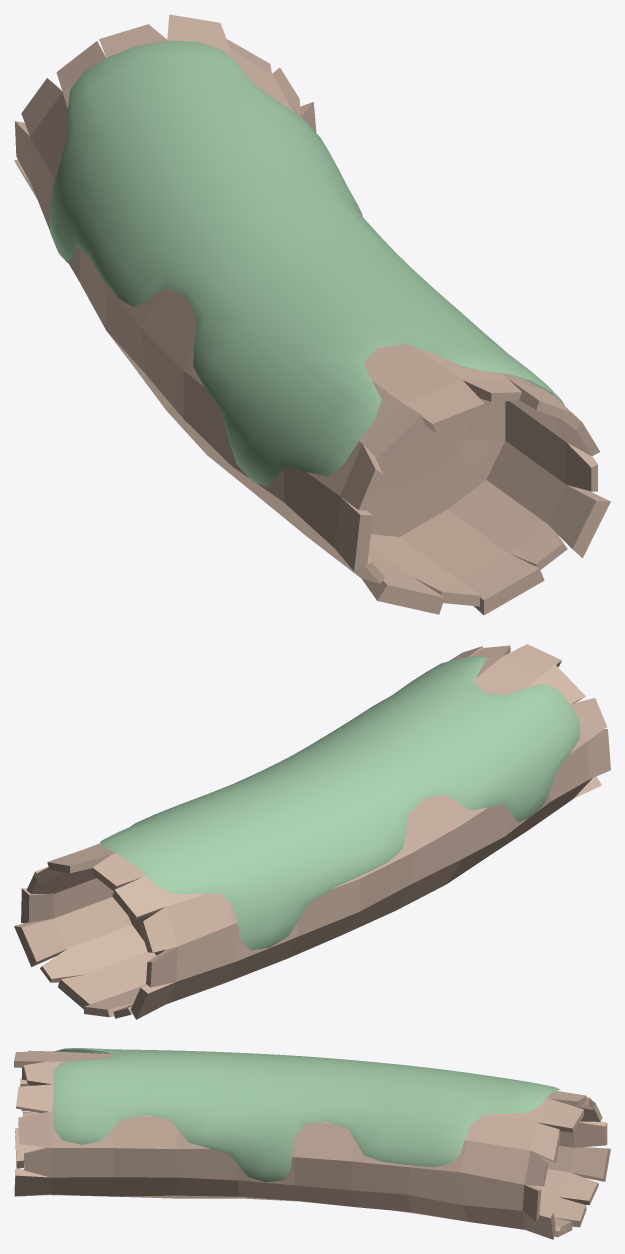
The model's file is MossyLog.fbx.
3 renders of one model, top to bottom at view 1: azimuth 30°, elevation 25°; view 2: azimuth 150°, elevation 25°; view 3: azimuth 270°, elevation 25°, orthographic. The views are drawn at different scales.
Parts seen in each view (by area): view 1: Moss, Log; view 2: Moss, Log; view 3: Log, Moss.
Part boxes in pixels (<box>): Moss: <box>49,40,564,486</box>; Log: <box>14,14,610,615</box>; Moss: <box>100,655,579,950</box>; Log: <box>14,644,610,1019</box>; Log: <box>14,1050,610,1239</box>; Moss: <box>52,1048,560,1181</box>.
Size of the model in its own units: 35.97 by 19.36 by 78.81.
